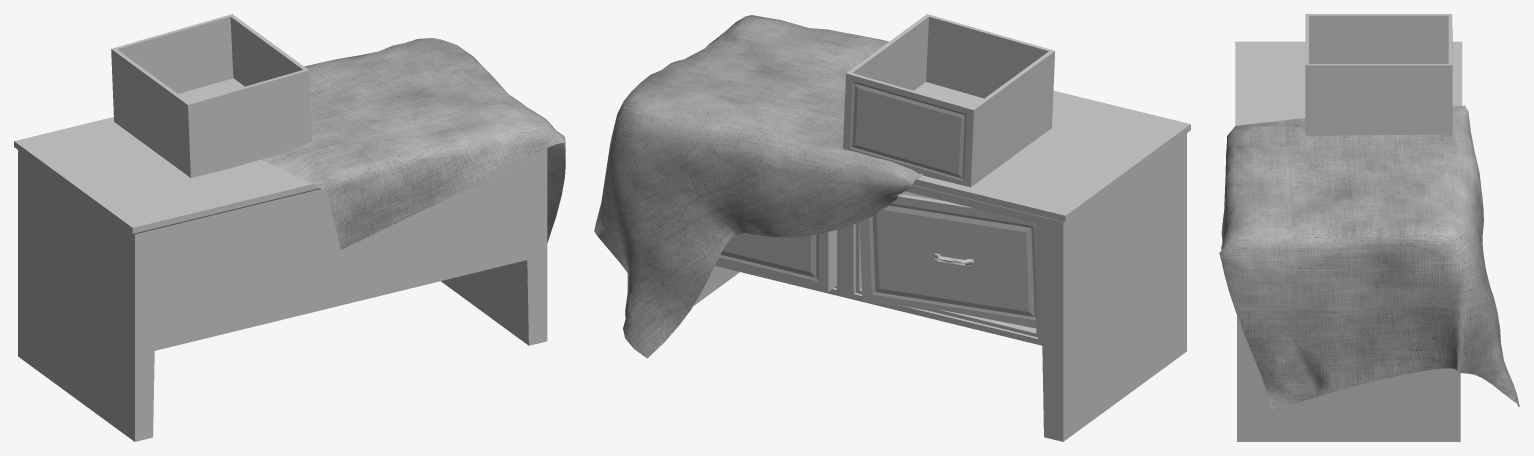
The model's file is DAMAGED GOODS 8.fbx.
The picture shows the model from 3 angles, left to right: view 1: azimuth 30°, elevation 25°; view 2: azimuth 150°, elevation 25°; view 3: azimuth 270°, elevation 25°; orthographic projection. The views are drawn at different scales.
Visible parts, largest first — view 1: DAMAGED GOODS 8; view 2: DAMAGED GOODS 8; view 3: DAMAGED GOODS 8.
Part boxes in pixels (left/top/right/bottom): DAMAGED GOODS 8: left=14, top=14, right=565, bottom=441; DAMAGED GOODS 8: left=594, top=14, right=1190, bottom=441; DAMAGED GOODS 8: left=1219, top=14, right=1519, bottom=441.
Size of the model in its own units: 1.65 by 1.03 by 0.9996.
